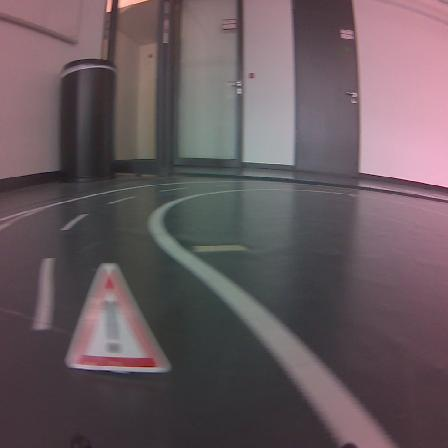ATTENTION: (66, 264, 170, 372)
